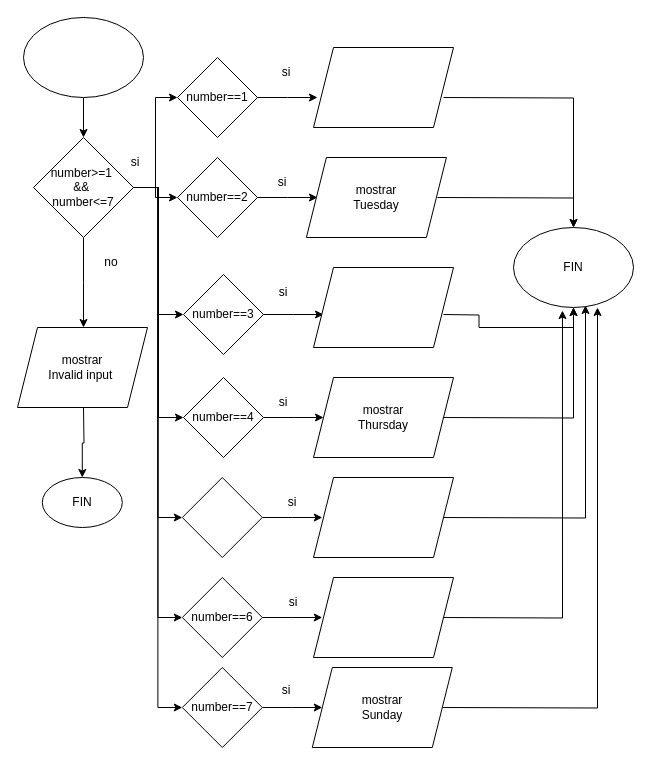
This 651x765 diagram has some shape labels left out. Each missing label, with the centre of its shape:
"INICIO 6" goes at point (83, 57).
"mostrar Friday" goes at point (383, 517).
"mostrar Monday" goes at point (383, 87).
"mostrar Saturday" goes at point (383, 617).
"mostrar Wednesday" goes at point (383, 307).
"number==5" goes at point (221, 517).
